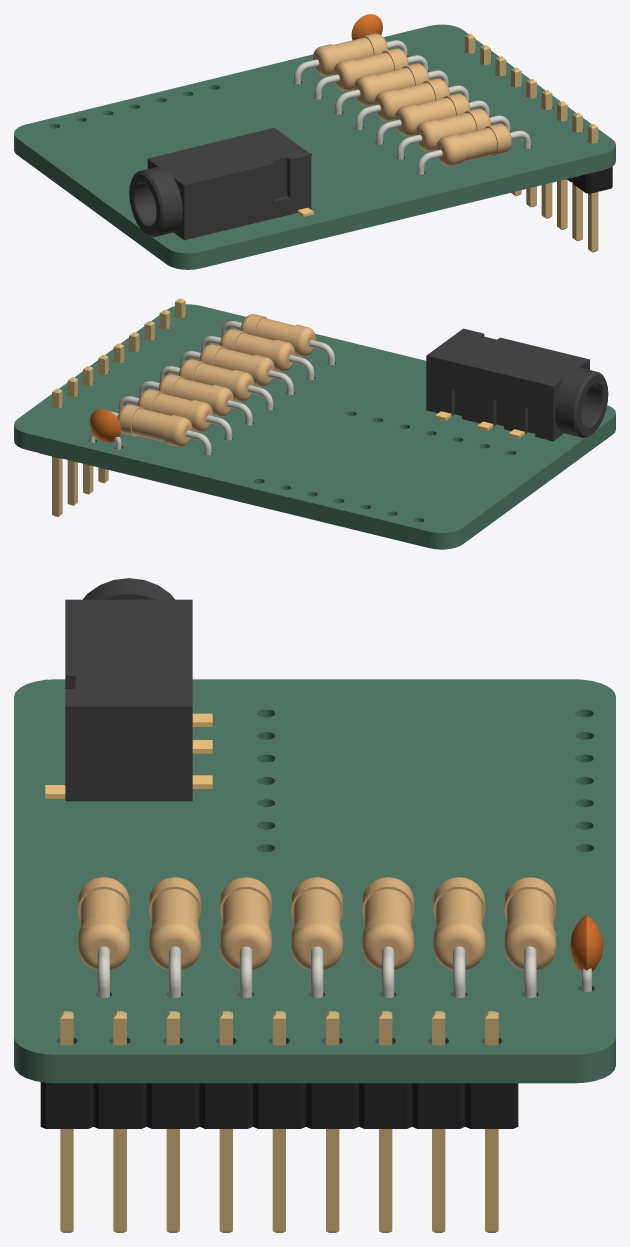
Rendered from C5VRX_JACK_DIY.glb.
3 views of the same model, one above another, from view 1: azimuth 30°, elevation 25°; view 2: azimuth 150°, elevation 25°; view 3: azimuth 270°, elevation 25° (orthographic). The views are drawn at different scales.
Parts seen in each view (by area): view 1: =>[0:1:1:11], NAUO1, =>[0:1:1:6] (×7), =>[0:1:1:10], =>[0:1:1:8]; view 2: =>[0:1:1:11], NAUO1, =>[0:1:1:6] (×7), =>[0:1:1:10], =>[0:1:1:8]; view 3: =>[0:1:1:11], =>[0:1:1:10], =>[0:1:1:6] (×7), NAUO1, =>[0:1:1:8].
Part boxes in pixels (bbox=[...]): =>[0:1:1:11]: bbox=[14, 24, 615, 269]; NAUO1: bbox=[129, 127, 313, 240]; =>[0:1:1:6] (×7): bbox=[293, 33, 530, 174]; =>[0:1:1:10]: bbox=[465, 33, 612, 252]; =>[0:1:1:8]: bbox=[351, 14, 382, 40]; =>[0:1:1:11]: bbox=[14, 304, 615, 549]; NAUO1: bbox=[426, 328, 608, 440]; =>[0:1:1:6] (×7): bbox=[110, 314, 334, 455]; =>[0:1:1:10]: bbox=[39, 298, 185, 516]; =>[0:1:1:8]: bbox=[89, 409, 121, 449]; =>[0:1:1:11]: bbox=[14, 679, 615, 1083]; =>[0:1:1:10]: bbox=[40, 1011, 518, 1232]; =>[0:1:1:6] (×7): bbox=[77, 877, 556, 997]; NAUO1: bbox=[45, 578, 212, 801]; =>[0:1:1:8]: bbox=[570, 914, 603, 991].
Bounding box in the file's own units: 0.0426 × 0.0154 × 0.0288.
